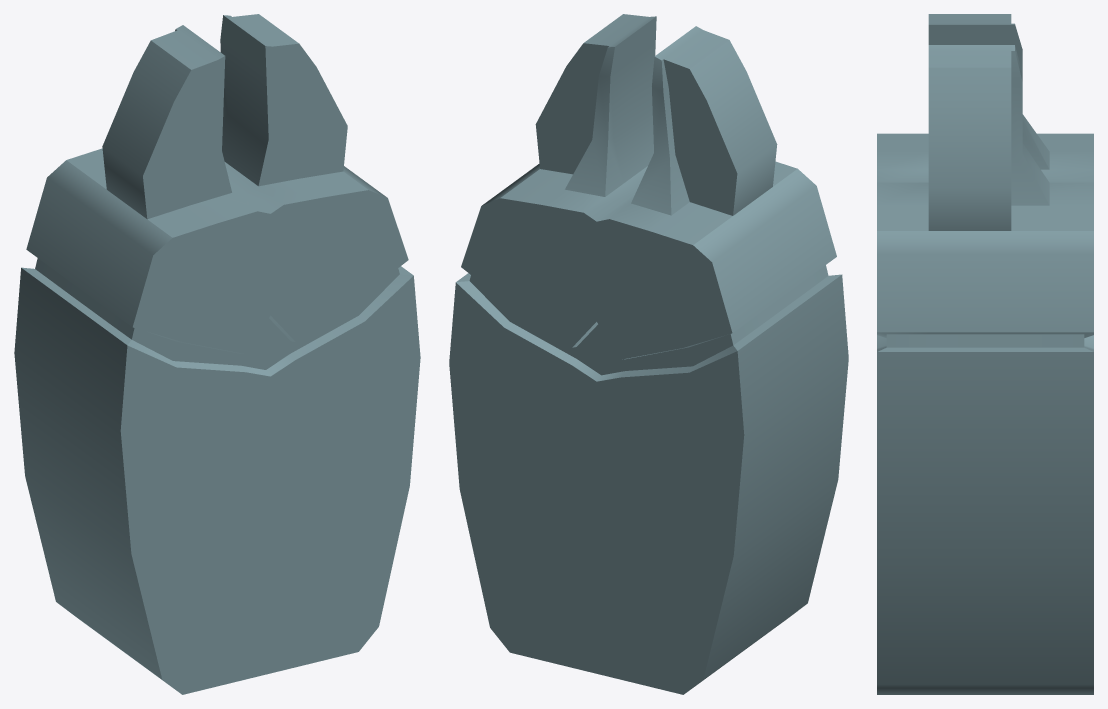
The model's file is OwlTotem.fbx.
3 renders of one model, left to right at view 1: azimuth 30°, elevation 25°; view 2: azimuth 150°, elevation 25°; view 3: azimuth 270°, elevation 25°, orthographic. The views are drawn at different scales.
Parts seen in each view (by area): view 1: Owl_Totem; view 2: Owl_Totem; view 3: Owl_Totem.
Part boxes in pixels (bbox=[...]): Owl_Totem: bbox=[14, 14, 420, 694]; Owl_Totem: bbox=[449, 14, 848, 694]; Owl_Totem: bbox=[877, 14, 1093, 694].
Size of the model in its own units: 4.49 by 8.65 by 2.76.
